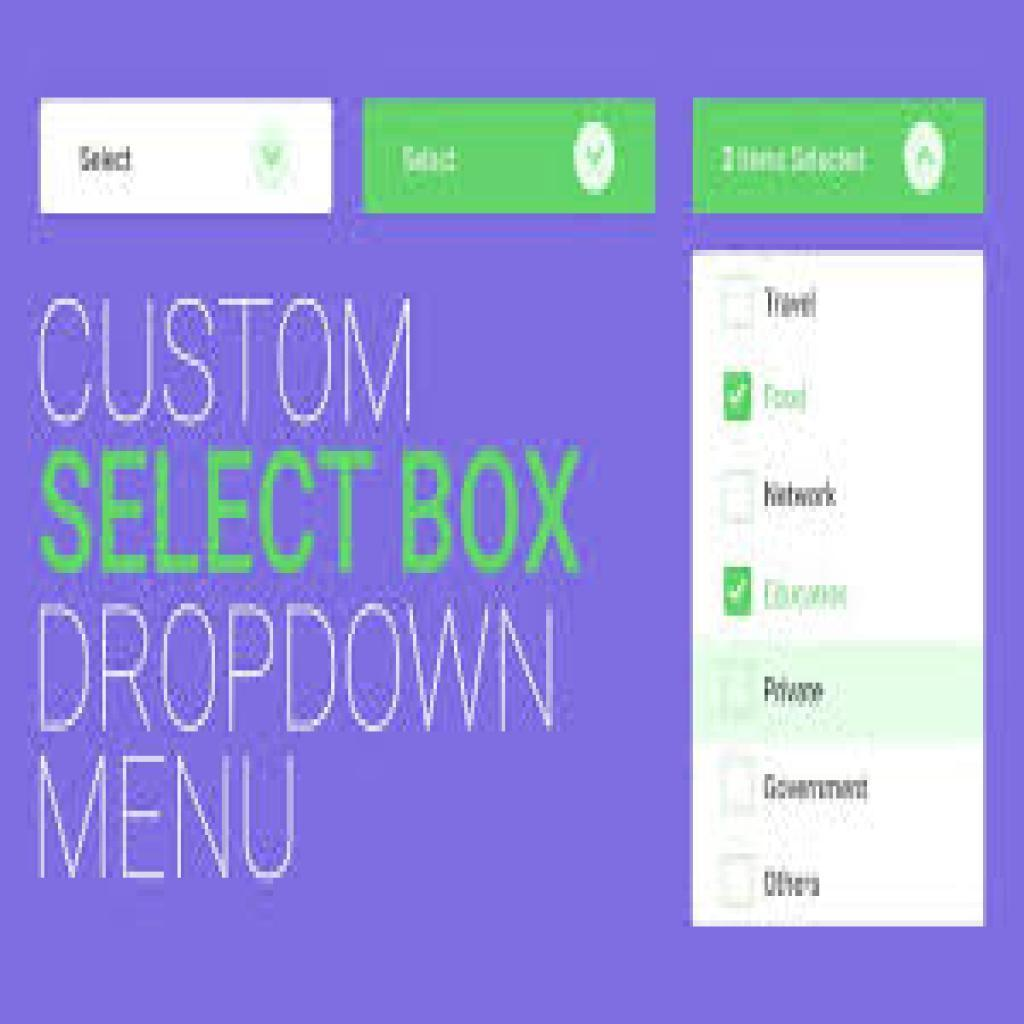checkbox: (715, 854, 753, 908), (723, 276, 757, 329), (724, 470, 756, 526), (718, 764, 753, 814), (725, 373, 754, 423), (725, 568, 753, 617)
dropdown: (362, 100, 658, 217), (41, 98, 333, 216), (697, 100, 989, 217)
